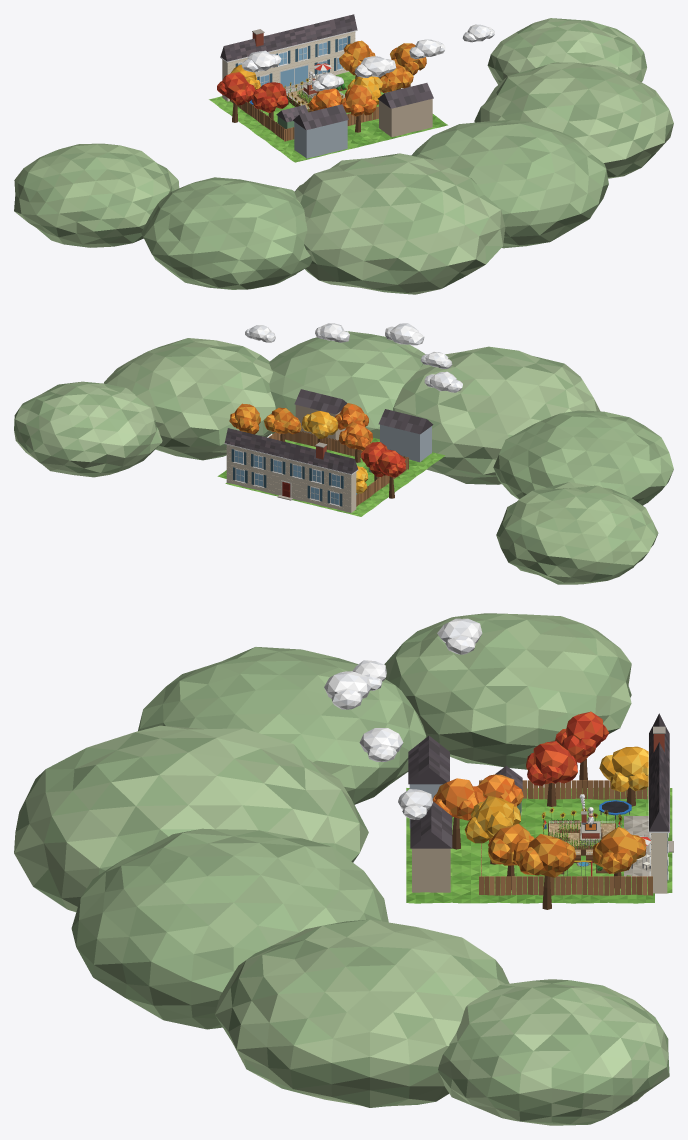
Rendered from TurkeyRace_LowPolyYard.glb.
3 views of the same model, one above another, from view 1: azimuth 30°, elevation 25°; view 2: azimuth 150°, elevation 25°; view 3: azimuth 270°, elevation 25° (orthographic). The views are drawn at different scales.
Parts seen in each view (by area): view 1: Hill2, Hill1, Hill3, Hill4, Hill5, Hill6, Leaves, House, Neighbors, Clouds, Lawn, Fence (+1 smaller); view 2: Hill2, Hill4, Hill5, Hill1, Hill6, Hill3, House, Leaves, Neighbors, Clouds, Lawn, Fence; view 3: Hill4, Hill3, Hill2, Hill6, Hill5, Hill1, Leaves, Lawn, Neighbors, Clouds, Fence, House (+4 smaller).
Boxes of the visible parts, x1,y1,x2,y2 form: Hill2: [294, 153, 505, 294]; Hill1: [141, 177, 312, 289]; Hill3: [411, 120, 608, 248]; Hill4: [474, 62, 673, 178]; Hill5: [14, 143, 179, 247]; Hill6: [487, 18, 646, 84]; Leaves: [217, 40, 426, 116]; House: [220, 14, 357, 101]; Neighbors: [293, 83, 433, 158]; Clouds: [241, 24, 494, 91]; Lawn: [214, 71, 447, 162]; Fence: [230, 77, 400, 141]; Hill2: [393, 346, 599, 484]; Hill4: [103, 338, 275, 460]; Hill5: [496, 482, 658, 584]; Hill1: [493, 410, 673, 505]; Hill6: [14, 381, 162, 477]; Hill3: [269, 331, 425, 439]; House: [224, 428, 358, 512]; Leaves: [229, 403, 405, 493]; Neighbors: [294, 389, 433, 462]; Clouds: [245, 323, 462, 392]; Lawn: [217, 438, 444, 512]; Fence: [268, 431, 408, 506]; Hill4: [215, 919, 509, 1107]; Hill3: [71, 828, 388, 1029]; Hill2: [14, 725, 368, 912]; Hill6: [438, 979, 669, 1125]; Hill5: [384, 613, 631, 769]; Hill1: [138, 647, 426, 804]; Leaves: [432, 711, 648, 877]; Lawn: [406, 787, 654, 903]; Neighbors: [408, 736, 452, 892]; Clouds: [324, 618, 482, 819]; Fence: [479, 779, 652, 895]; House: [644, 713, 673, 893].
Size of the model in its own units: 4912 by 1274 by 2905.
1 material, 1 textured.
